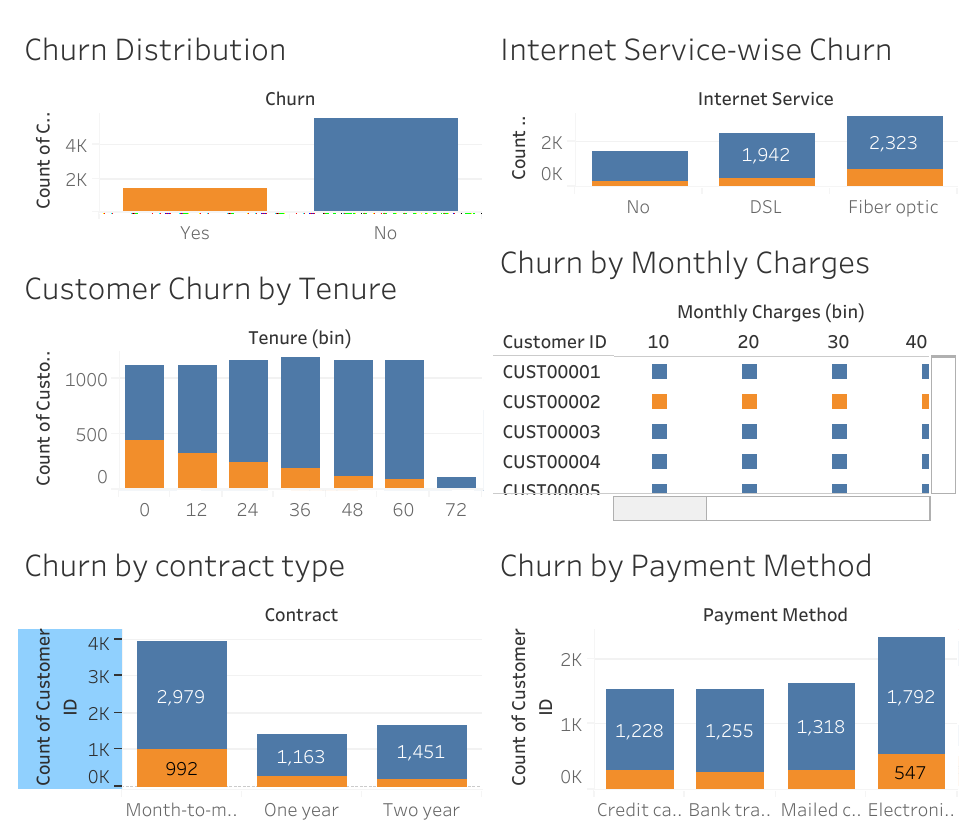

Layout of this report page (visuals, bound fields, positions):
{"tool":"tableau","page":{"name":"Dashboard 1","canvas":[650,860],"ordinal":0},"visuals":[{"type":"worksheet","title":"Churn Distribution","mark":"Automatic","rows":["customerID"],"cols":["Churn"],"box":[8,8.5,317,246.7]},{"type":"worksheet","title":"Internet Service-wise Churn","mark":"Automatic","rows":["customerID"],"cols":["InternetService"],"box":[325,8.5,317,220.6]},{"type":"worksheet","title":"Churn by Monthly Charges","mark":"Automatic","rows":["customerID"],"cols":["Monthly Charges (bin)"],"box":[325,229.1,317,312.2]},{"type":"worksheet","title":"Customer Churn by Tenure","mark":"Automatic","rows":["customerID"],"cols":["Tenure (bin)"],"box":[8,255.2,317,286.1]},{"type":"worksheet","title":"Churn by contract type","mark":"Automatic","rows":["customerID"],"cols":["Contract"],"box":[8,541.4,317,310.1]},{"type":"worksheet","title":"Churn by Payment Method","mark":"Automatic","rows":["customerID"],"cols":["PaymentMethod"],"box":[325,541.4,317,310.1]}]}

Visuals, with their boxes in screenshot pixels (x1, y1, x2, y2):
"Churn Distribution" worksheet: pyautogui.locateOnScreen(216, 46, 521, 284)
"Internet Service-wise Churn" worksheet: pyautogui.locateOnScreen(521, 46, 826, 259)
"Churn by Monthly Charges" worksheet: pyautogui.locateOnScreen(521, 259, 826, 559)
"Customer Churn by Tenure" worksheet: pyautogui.locateOnScreen(216, 284, 521, 559)
"Churn by contract type" worksheet: pyautogui.locateOnScreen(216, 559, 521, 838)
"Churn by Payment Method" worksheet: pyautogui.locateOnScreen(521, 559, 826, 838)
